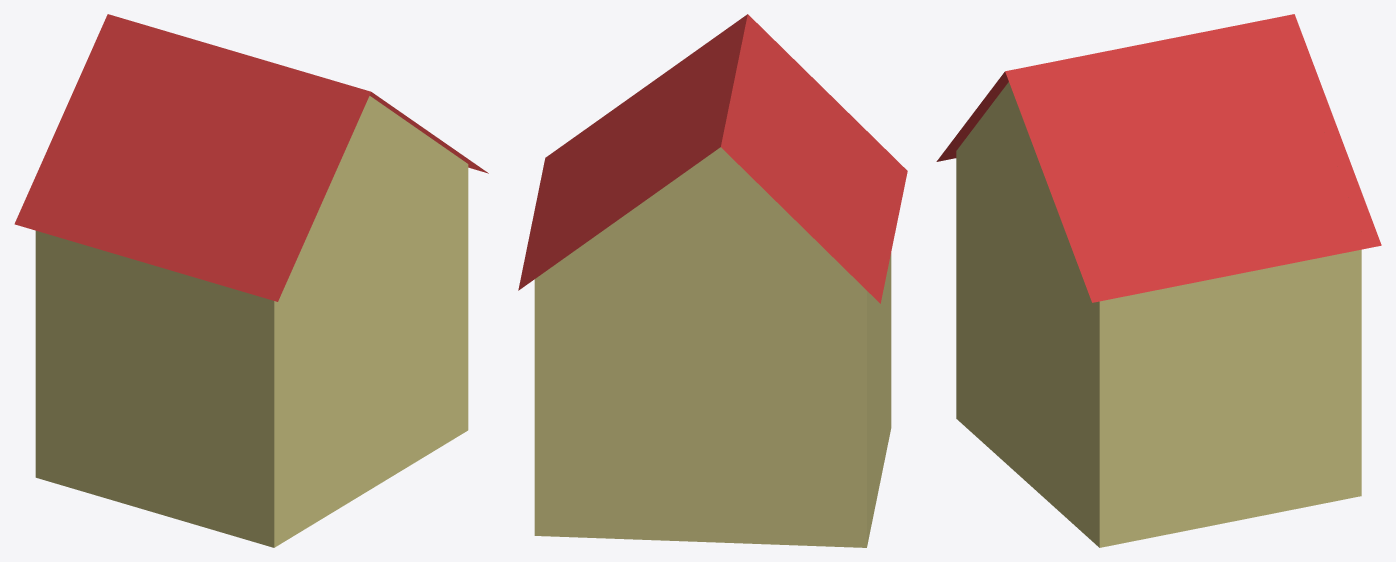
The picture shows the model from 3 angles, left to right: view 1: azimuth 30°, elevation 25°; view 2: azimuth 150°, elevation 25°; view 3: azimuth 270°, elevation 25°; orthographic projection.
Size of the model in its own units: 15.36 by 14.6 by 14.7.
